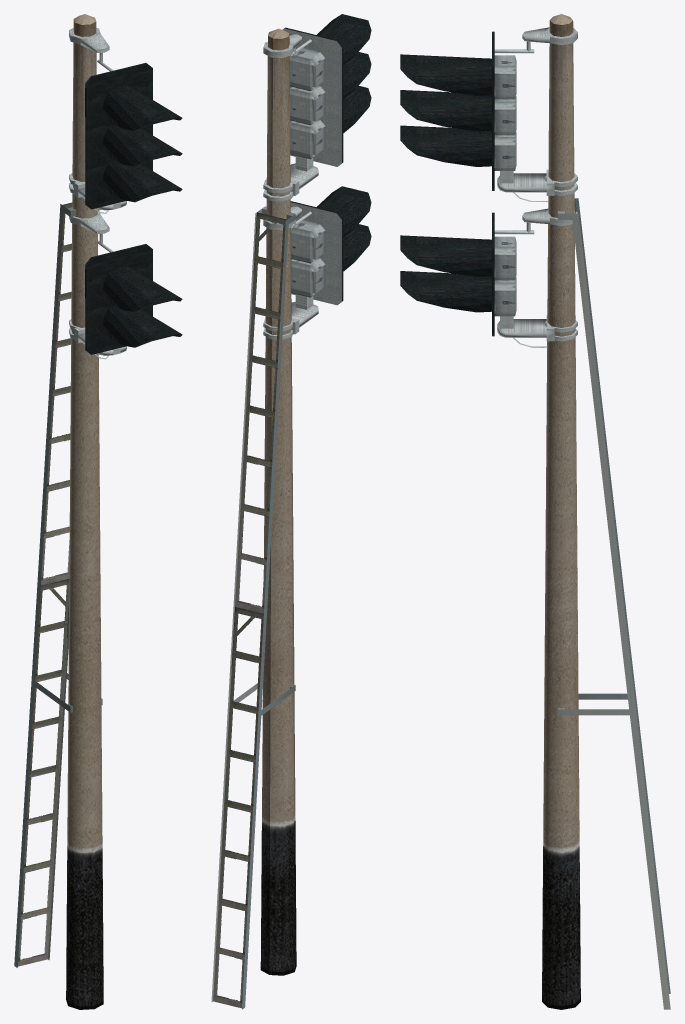
The model's file is exit_mainline.obj.
3 renders of one model, left to right at view 1: azimuth 30°, elevation 25°; view 2: azimuth 150°, elevation 25°; view 3: azimuth 270°, elevation 25°, orthographic. The views are drawn at different scales.
Parts seen in each view (by area): view 1: Body_0_Footing_concrete, Body_2_Signal, Body_1_Stairway; view 2: Body_0_Footing_concrete, Body_2_Signal, Body_1_Stairway; view 3: Body_0_Footing_concrete, Body_2_Signal, Body_1_Stairway.
Part boxes in pixels (box(x1,y1,x2,y2)): Body_0_Footing_concrete: box(66, 14, 103, 1009); Body_2_Signal: box(69, 27, 182, 359); Body_1_Stairway: box(14, 202, 102, 967); Body_0_Footing_concrete: box(260, 28, 296, 975); Body_2_Signal: box(263, 14, 371, 339); Body_1_Stairway: box(211, 206, 295, 1009); Body_0_Footing_concrete: box(542, 14, 580, 1009); Body_2_Signal: box(400, 27, 577, 347); Body_1_Stairway: box(558, 198, 670, 1009).
Size of the model in its own units: 0.5618 by 7.97 by 1.98.
Materials: 8 (8 with a texture image).
